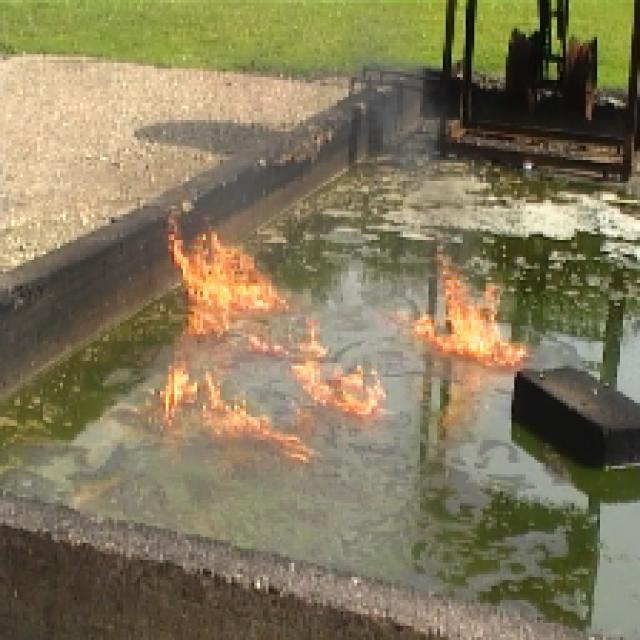Fire: (172, 234, 276, 320), (424, 280, 512, 359)
